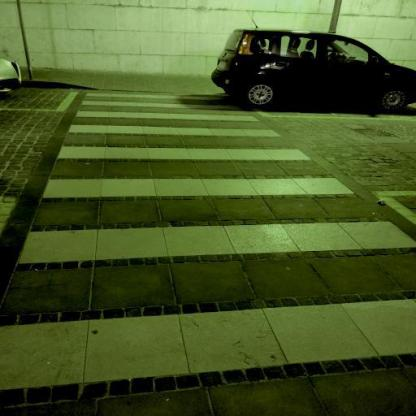crosswalk: (34, 142, 367, 209), (70, 98, 266, 124)
